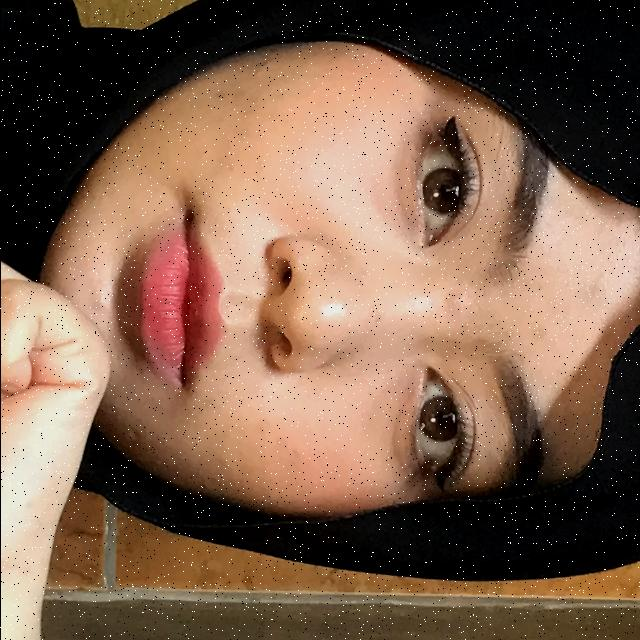sedih: (0, 100, 264, 640)
